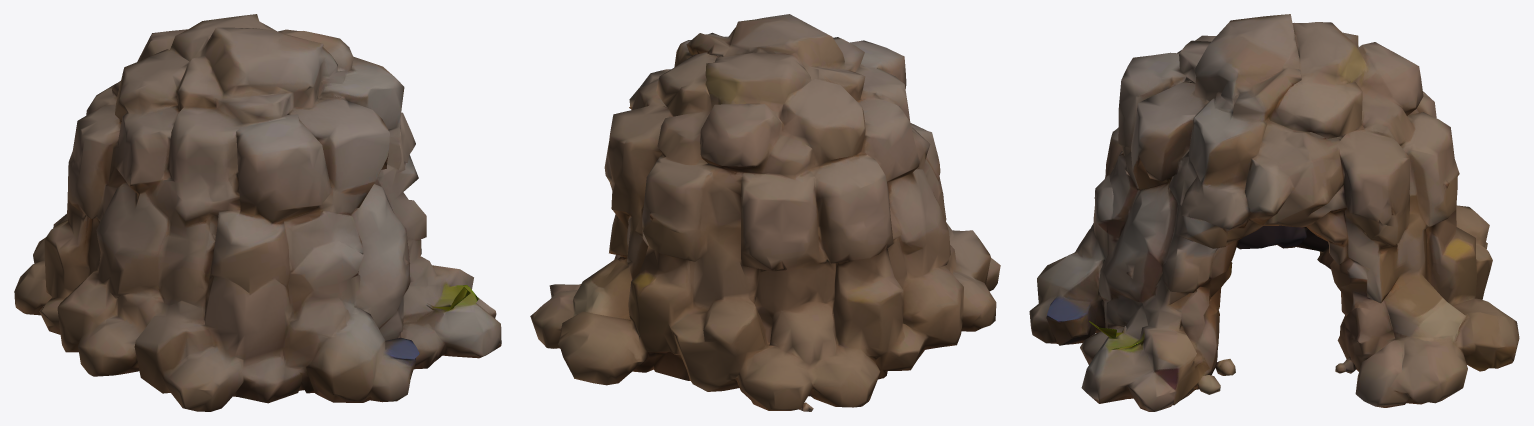
The model's file is cave_entrance.glb.
3 renders of one model, left to right at view 1: azimuth 30°, elevation 25°; view 2: azimuth 150°, elevation 25°; view 3: azimuth 270°, elevation 25°, orthographic. The views are drawn at different scales.
Visible parts, largest first — view 1: tripo_node_ae6c8f49-e4de-447f-9a57-22bc197b385f; view 2: tripo_node_ae6c8f49-e4de-447f-9a57-22bc197b385f; view 3: tripo_node_ae6c8f49-e4de-447f-9a57-22bc197b385f.
Part boxes in pixels (bbox=[...]): tripo_node_ae6c8f49-e4de-447f-9a57-22bc197b385f: bbox=[14, 14, 501, 411]; tripo_node_ae6c8f49-e4de-447f-9a57-22bc197b385f: bbox=[530, 14, 1000, 411]; tripo_node_ae6c8f49-e4de-447f-9a57-22bc197b385f: bbox=[1029, 14, 1519, 411].
Bounding box in the file's own units: 0.886 × 0.6747 × 1.
Materials: 1 (1 with a texture image).
